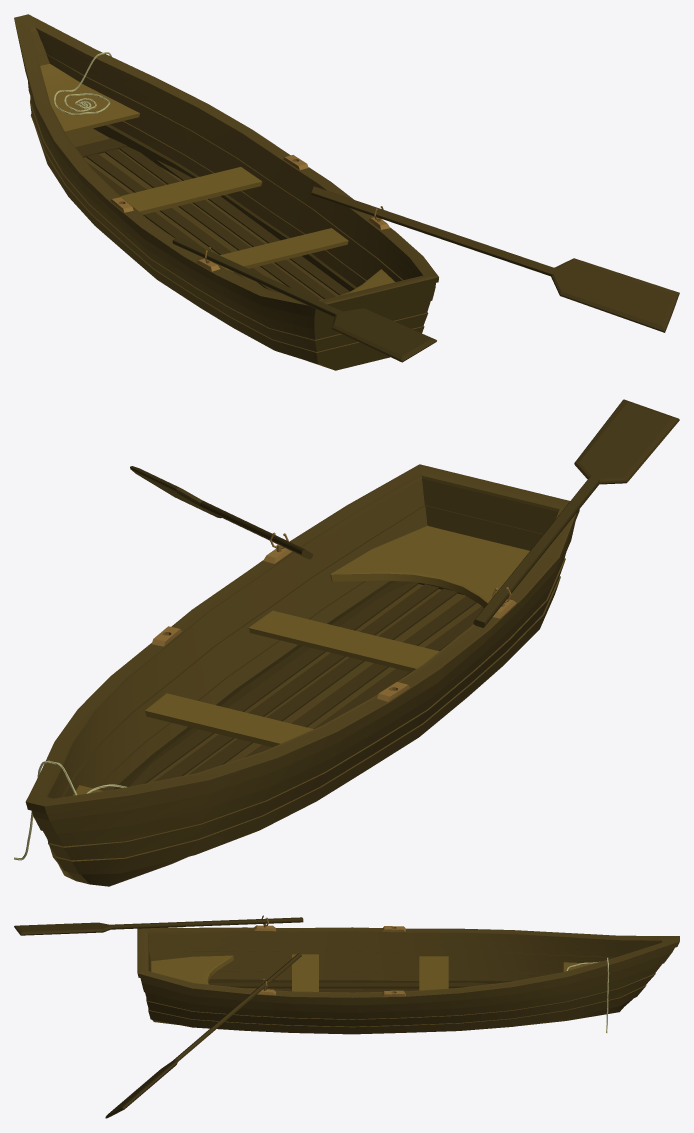
File: rowboat.glb
The picture shows the model from 3 angles, top to bottom: view 1: azimuth 30°, elevation 25°; view 2: azimuth 150°, elevation 25°; view 3: azimuth 270°, elevation 25°; orthographic projection. The views are drawn at different scales.
Visible parts, largest first — view 1: Boat, Oars2, Oars1, Front, Planks2, Planks1, Cenefa, Tablas2, Tablas3, Tablas1, Tablas4, Tablas5 (+1 smaller); view 2: Boat, Back, Oars1, Planks1, Planks2, Tablas1, Tablas2, Tablas3, Cenefa, Tablas4, Oars2, Tablas5; view 3: Boat, Oars1, Back, Oars2, Tablas6, Cenefa, Planks2, Planks1, Tablas5.
Boxes of the visible parts, x1=… form: Boat: x1=14, y1=14, x2=438, y2=370; Oars2: x1=311, y1=186, x2=679, y2=332; Oars1: x1=172, y1=237, x2=436, y2=362; Front: x1=40, y1=63, x2=139, y2=134; Planks2: x1=121, y1=167, x2=262, y2=214; Planks1: x1=217, y1=228, x2=348, y2=272; Cenefa: x1=93, y1=124, x2=356, y2=291; Tablas2: x1=119, y1=146, x2=335, y2=299; Tablas3: x1=105, y1=149, x2=320, y2=300; Tablas1: x1=155, y1=159, x2=349, y2=295; Tablas4: x1=86, y1=153, x2=279, y2=292; Tablas5: x1=87, y1=162, x2=243, y2=277; Boat: x1=25, y1=464, x2=579, y2=886; Back: x1=330, y1=525, x2=529, y2=607; Oars1: x1=473, y1=399, x2=679, y2=627; Planks1: x1=248, y1=610, x2=439, y2=672; Planks2: x1=145, y1=693, x2=313, y2=747; Tablas1: x1=129, y1=582, x2=418, y2=786; Tablas2: x1=154, y1=584, x2=438, y2=781; Tablas3: x1=188, y1=588, x2=457, y2=774; Cenefa: x1=113, y1=581, x2=412, y2=789; Tablas4: x1=244, y1=596, x2=476, y2=757; Oars2: x1=130, y1=466, x2=312, y2=559; Tablas5: x1=313, y1=606, x2=483, y2=728; Boat: x1=137, y1=927, x2=679, y2=1034; Oars1: x1=14, y1=917, x2=303, y2=935; Back: x1=151, y1=955, x2=233, y2=984; Oars2: x1=105, y1=953, x2=301, y2=1118; Tablas6: x1=208, y1=982, x2=492, y2=987; Cenefa: x1=208, y1=979, x2=513, y2=989; Planks2: x1=419, y1=956, x2=448, y2=990; Planks1: x1=292, y1=954, x2=318, y2=991; Tablas5: x1=270, y1=989, x2=419, y2=992.
Size of the model in its own units: 2.61 by 0.6924 by 5.08.
